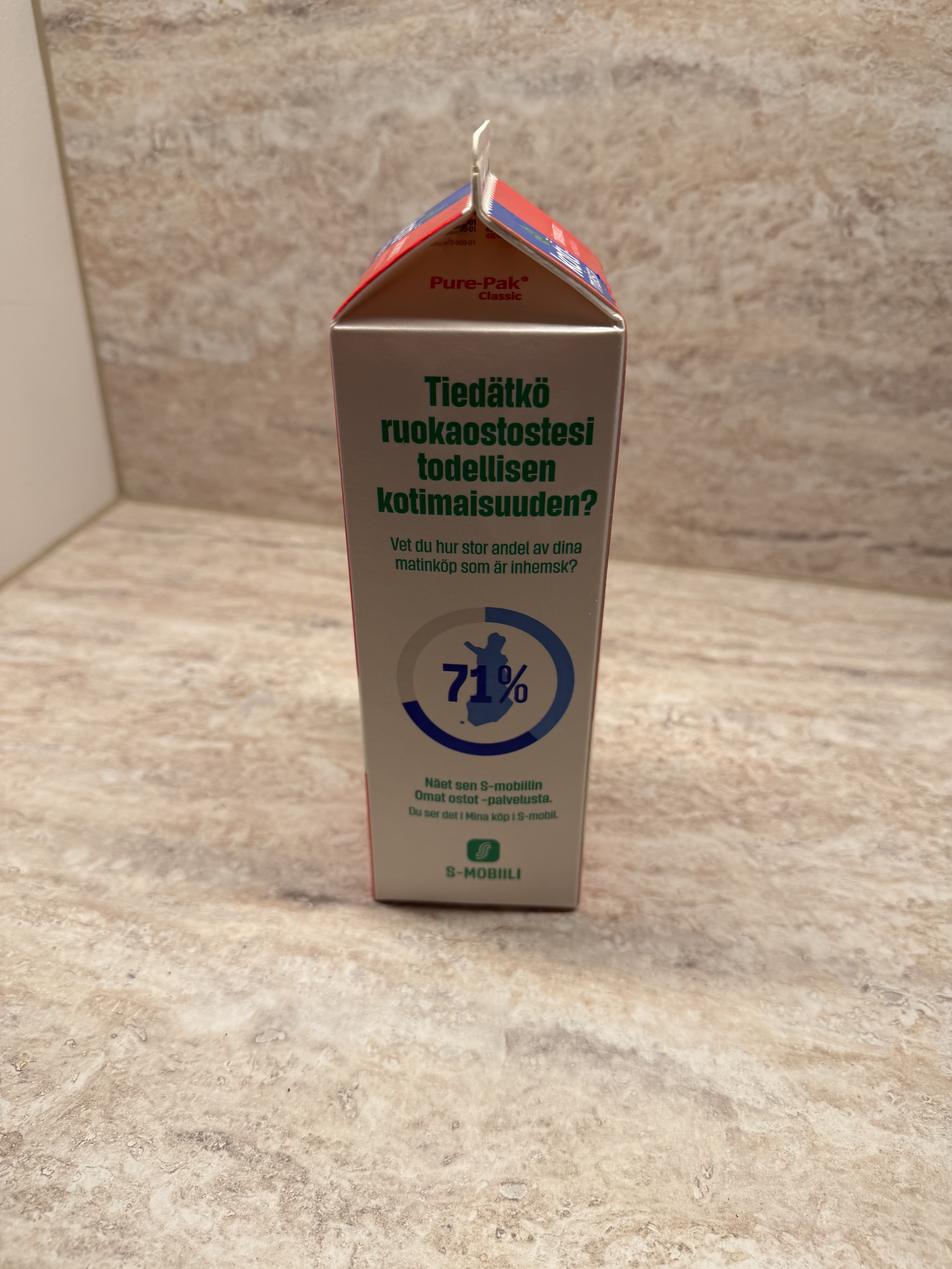Dryckeskartong: (312, 143, 635, 916)
